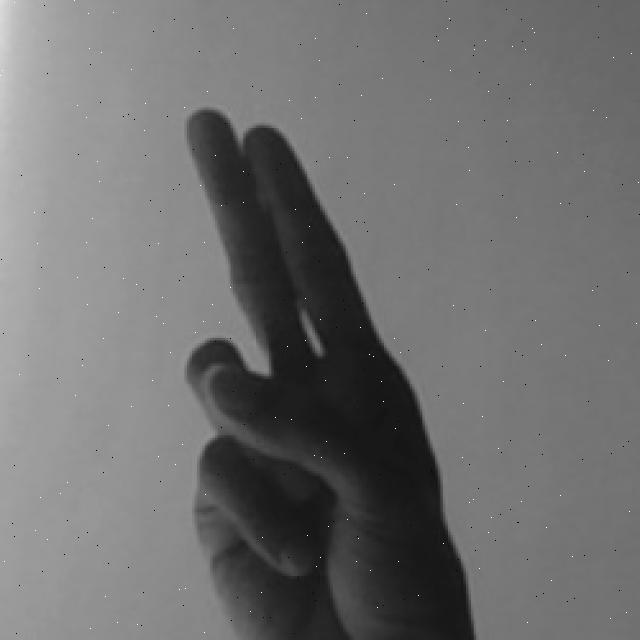U: (176, 99, 481, 640)
